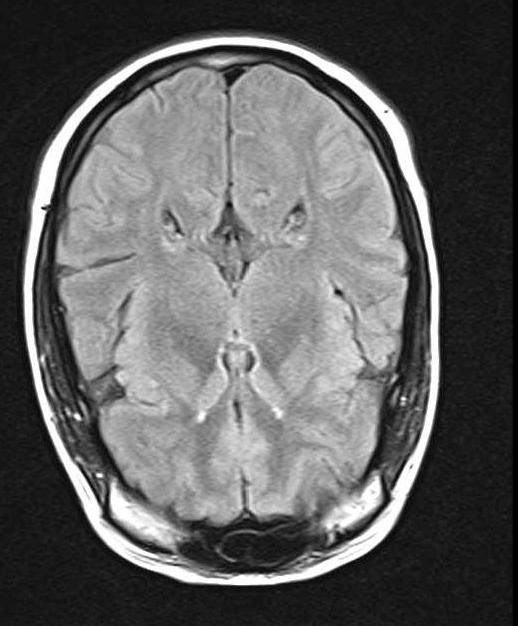Normal_Brain: (18, 1, 518, 626)
